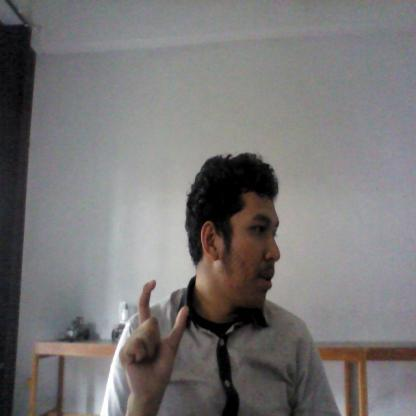U: (116, 278, 191, 404)
